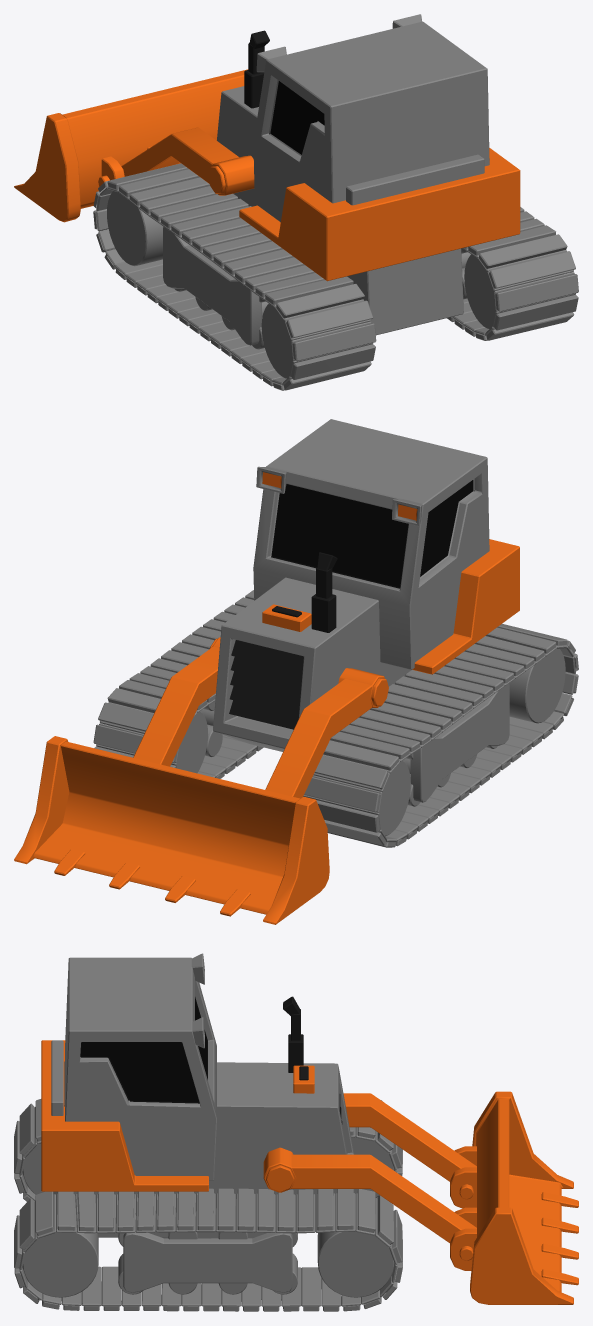
Rendered from Bulldozer_01 (2).fbx.
3 views of the same model, one above another, from view 1: azimuth 30°, elevation 25°; view 2: azimuth 150°, elevation 25°; view 3: azimuth 270°, elevation 25° (orthographic). The views are drawn at different scales.
Parts seen in each view (by area): view 1: Dozer; view 2: Dozer; view 3: Dozer.
Part boxes in pixels (x1,y1,x2,y2): Dozer: (14,14,578,390); Dozer: (14,419,578,924); Dozer: (14,953,578,1311).
Bounding box in the file's own units: 7.05 × 12.77 × 6.36.
